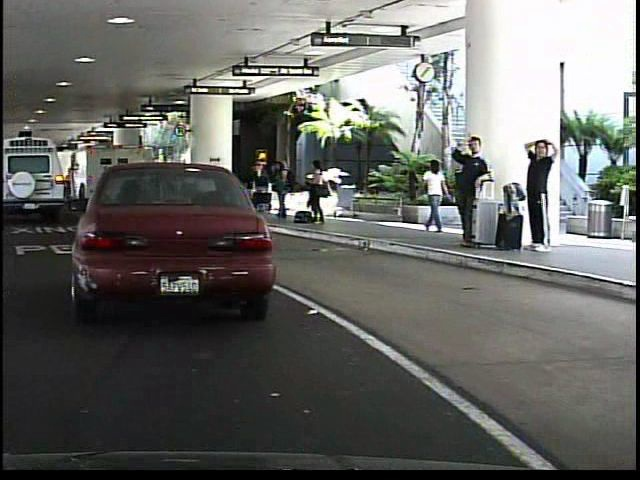person: (446, 133, 491, 249), (522, 127, 560, 251), (417, 154, 450, 235), (304, 157, 330, 225)
